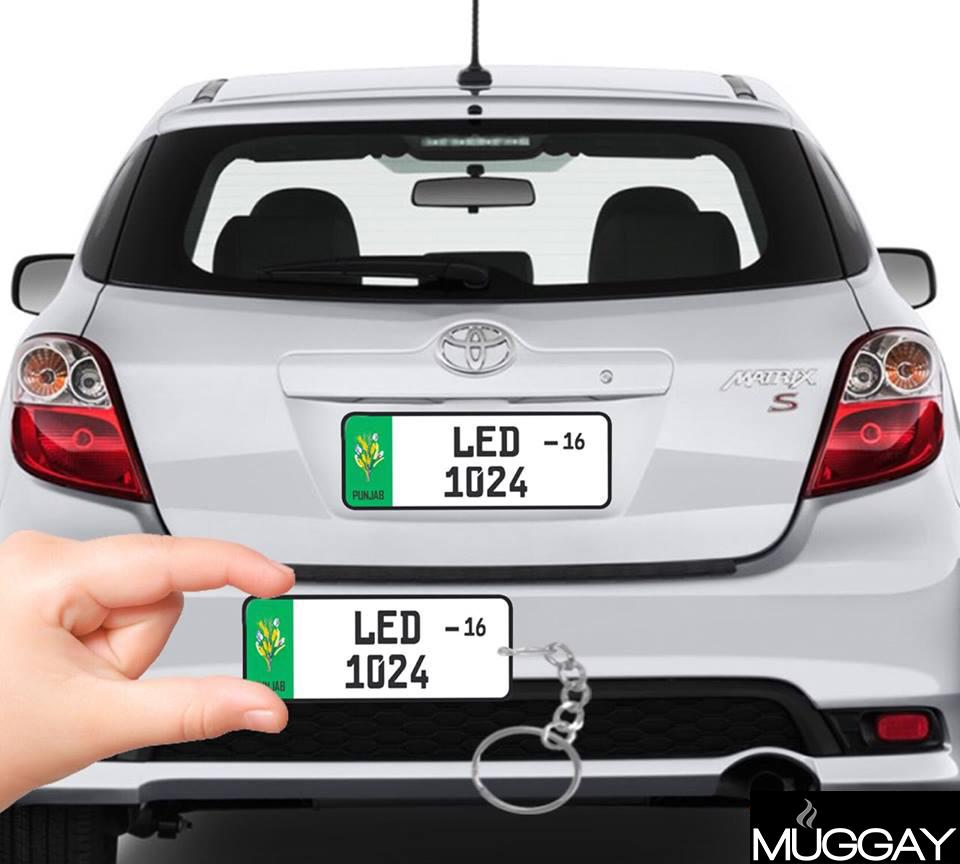plate: (330, 396, 621, 518), (234, 588, 521, 709)
